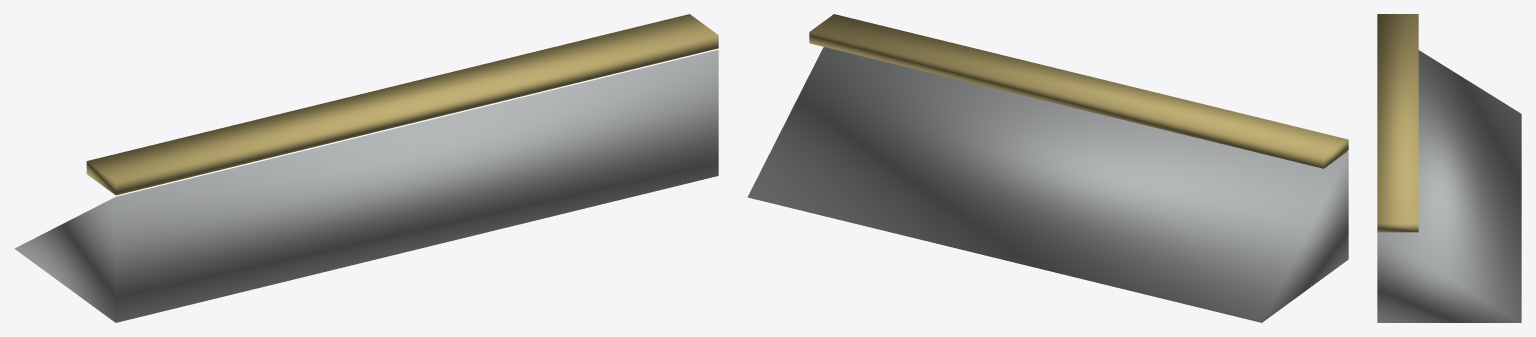
The model's file is curb_ramp_yellow_w120_h24_r35.glb.
3 renders of one model, left to right at view 1: azimuth 30°, elevation 25°; view 2: azimuth 150°, elevation 25°; view 3: azimuth 270°, elevation 25°, orthographic. The views are drawn at different scales.
Parts seen in each view (by area): view 1: world; view 2: world; view 3: world.
Part boxes in pixels (<box>): world: <box>14,14,718,322</box>; world: <box>747,14,1348,322</box>; world: <box>1377,14,1521,322</box>.
Size of the model in its own units: 1.2 by 0.2675 by 0.35.
